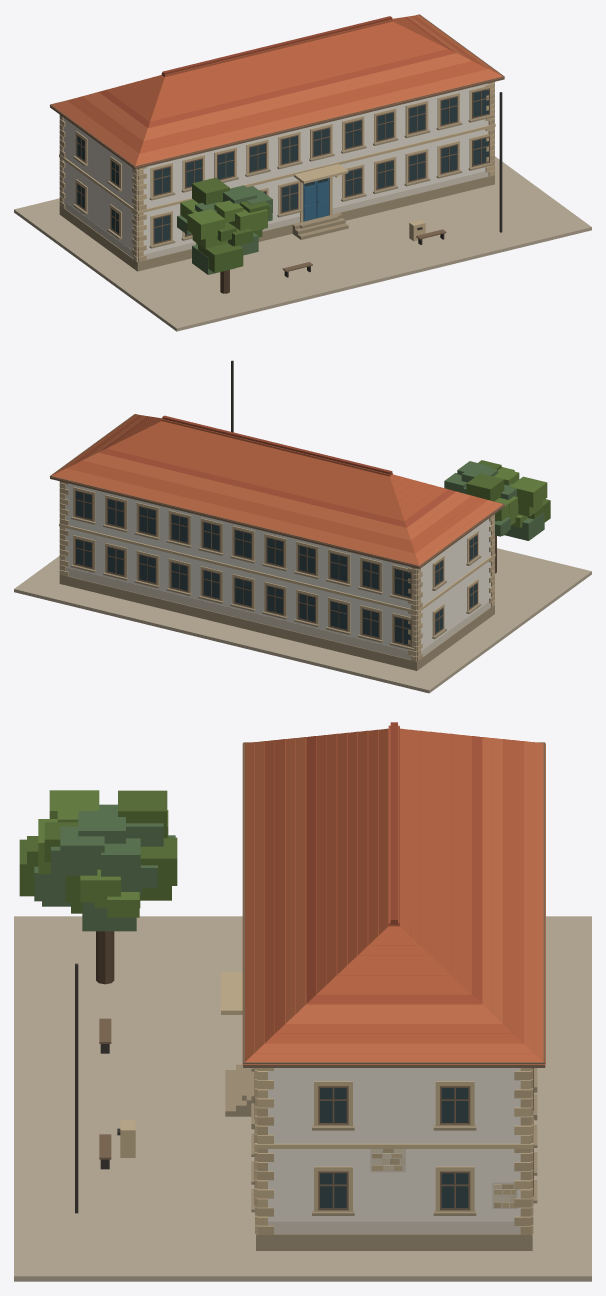
File: okul.glb
3 views of the same model, one above another, from view 1: azimuth 30°, elevation 25°; view 2: azimuth 150°, elevation 25°; view 3: azimuth 270°, elevation 25° (orthographic). The views are drawn at different scales.
Visible parts, largest first — view 1: zemin, kiremit1, badana, kiremit3, tas2, cam, ahsap, tas_koyu, asma2, kiremit2, asma, badana_kir (+5 smaller); view 2: kiremit1, badana, zemin, kiremit3, cam, tas2, ahsap, tas_koyu, badana_kir, kiremit2, asma, zeytin (+3 smaller); view 3: zemin, kiremit1, kiremit3, badana, tas2, zeytin, tas_koyu, kiremit2, ahsap, asma2, asma, badana_kir (+5 smaller).
Boxes of the visible parts, x1,y1,x2,y2 form: zemin: (14, 156, 591, 331); kiremit1: (67, 15, 487, 153); badana: (63, 83, 488, 254); kiremit3: (49, 15, 504, 167); tas2: (59, 82, 495, 261); cam: (77, 90, 488, 243); ahsap: (50, 14, 504, 271); tas_koyu: (59, 114, 494, 271); asma2: (192, 177, 269, 272); kiremit2: (98, 17, 455, 128); asma: (180, 199, 267, 249); badana_kir: (63, 171, 488, 261); kiremit1: (67, 415, 487, 553); badana: (65, 483, 490, 650); zemin: (14, 548, 591, 693); kiremit3: (49, 414, 504, 566); cam: (76, 491, 476, 645); tas2: (59, 481, 495, 661); ahsap: (50, 414, 504, 646); tas_koyu: (59, 516, 494, 670); badana_kir: (66, 567, 490, 660); kiremit2: (98, 416, 455, 527); asma: (494, 467, 547, 527); zeytin: (444, 461, 544, 540); zemin: (14, 916, 591, 1281); kiremit1: (264, 725, 523, 1043); kiremit3: (242, 737, 545, 1064); badana: (268, 1068, 520, 1221); tas2: (120, 972, 533, 1233); zeytin: (34, 804, 175, 931); tas_koyu: (225, 1063, 537, 1250); kiremit2: (306, 736, 482, 1004); ahsap: (99, 742, 545, 1210); asma2: (19, 790, 177, 913); asma: (38, 790, 168, 917); badana_kir: (257, 1149, 520, 1233).
Bounding box in the file's own units: 28 × 10.18 × 19.
